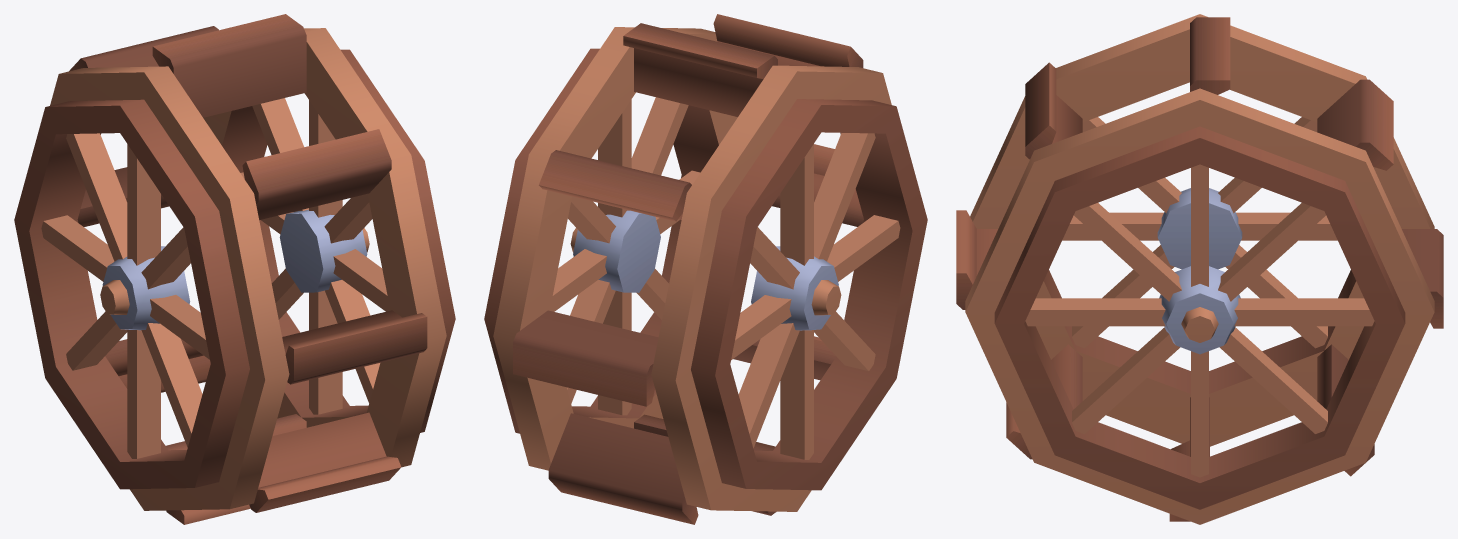
Rendered from watermill-wide.glb.
The picture shows the model from 3 angles, left to right: view 1: azimuth 30°, elevation 25°; view 2: azimuth 150°, elevation 25°; view 3: azimuth 270°, elevation 25°; orthographic projection. The views are drawn at different scales.
Parts seen in each view (by area): view 1: watermill-wide; view 2: watermill-wide; view 3: watermill-wide.
Part boxes in pixels (x1,y1,x2,y2): watermill-wide: [14, 14, 455, 524]; watermill-wide: [484, 14, 927, 524]; watermill-wide: [956, 14, 1443, 524].
Bounding box in the file's own units: 1.05 × 1.8 × 1.8.
Materials: 1 (1 with a texture image).
